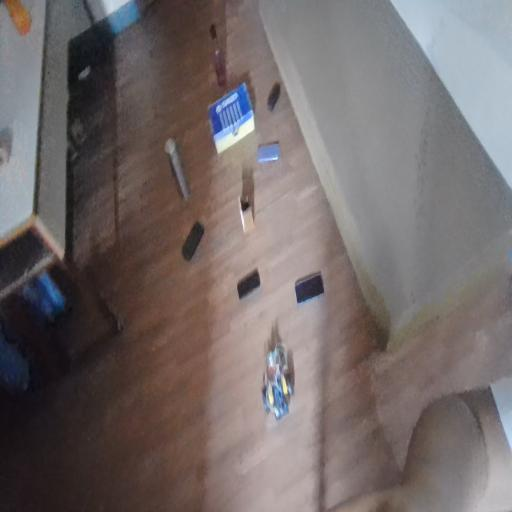Bottle: (211, 20, 234, 91)
car: (268, 340, 311, 453)
